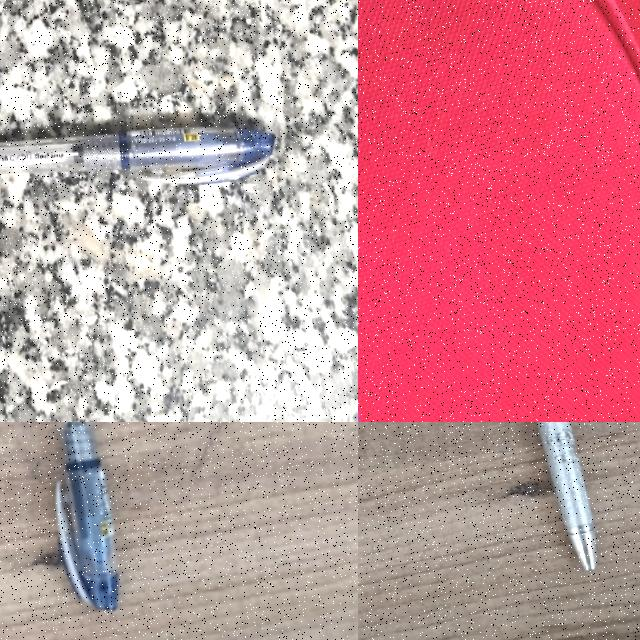pen: (0, 127, 274, 184), (56, 422, 118, 610)
pencil: (358, 418, 358, 422)
signature pen: (537, 422, 597, 570)
